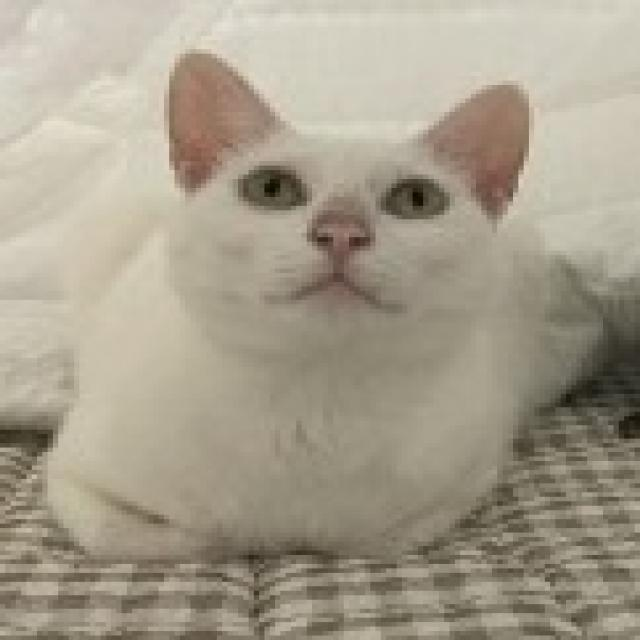cat: (42, 46, 624, 568)
